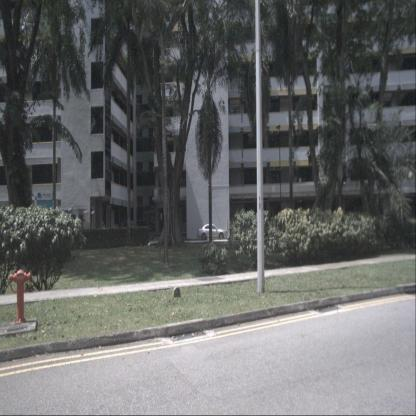vehicle-car: (198, 223, 228, 241)
